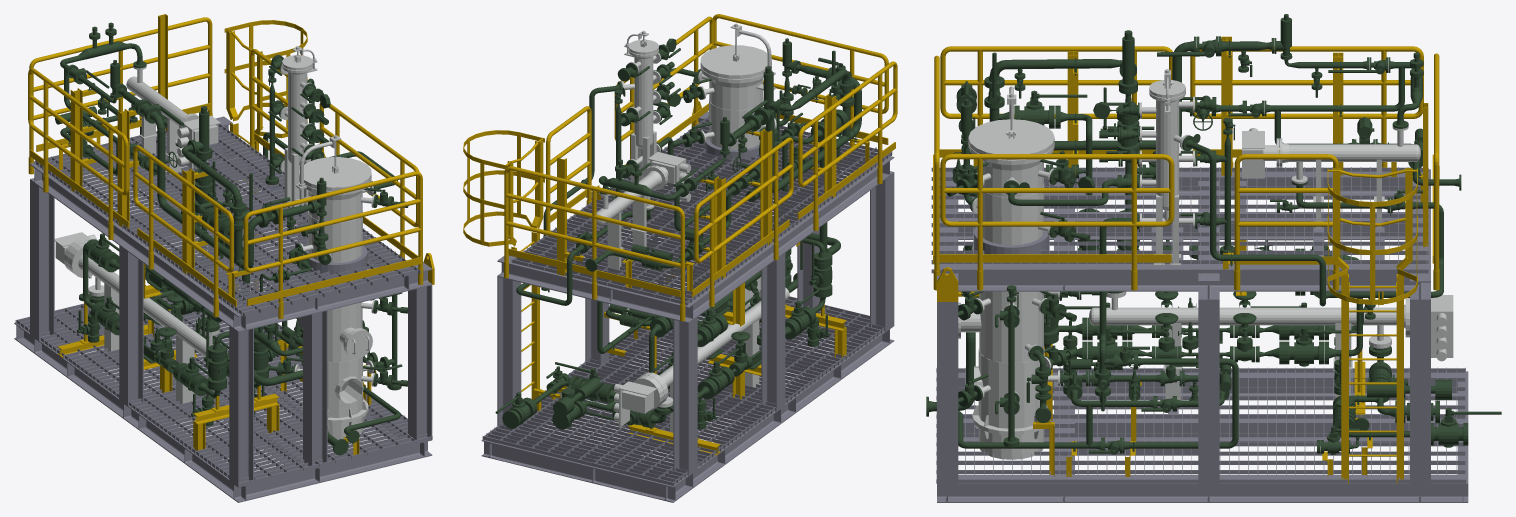
The picture shows the model from 3 angles, left to right: view 1: azimuth 30°, elevation 25°; view 2: azimuth 150°, elevation 25°; view 3: azimuth 270°, elevation 25°; orthographic projection. The views are drawn at different scales.
Parts seen in each view (by area): view 1: Stru Col.001, Hand rail, PIPE 1, PIPE 2, Grating Upper.001, Grating lower.001, EQUI 1, Stru basebeam.002, Supp, EQUI 2, Grating Upper.002, Grating lower.002 (+3 smaller); view 2: Stru Col.001, Hand rail, PIPE 1, Grating lower.001, PIPE 2, Grating Upper.001, Stru basebeam.002, Supp, EQUI 1, EQUI 2, Grating lower.002, EQUI 4 (+3 smaller); view 3: PIPE 1, Stru Col.001, Hand rail, Stru basebeam.002, PIPE 2, Grating lower.002, EQUI 1, Grating Upper.002, EQUI 2, Supp, Grating lower.001, EQUI 3 (+3 smaller).
Part boxes in pixels (<box>): Stru Col.001: <box>30,116,432,486</box>; Hand rail: <box>28,17,434,318</box>; PIPE 1: <box>77,106,408,443</box>; PIPE 2: <box>55,22,401,455</box>; Grating Upper.001: <box>34,123,418,315</box>; Grating lower.001: <box>15,292,432,486</box>; EQUI 1: <box>294,135,375,439</box>; Stru basebeam.002: <box>14,292,432,502</box>; Supp: <box>57,14,376,455</box>; EQUI 2: <box>54,232,219,404</box>; Grating Upper.002: <box>35,124,420,316</box>; Grating lower.002: <box>17,304,431,486</box>; Stru Col.001: <box>497,111,894,475</box>; Hand rail: <box>463,14,897,399</box>; PIPE 1: <box>495,38,846,429</box>; Grating lower.001: <box>482,296,883,485</box>; PIPE 2: <box>516,38,861,305</box>; Grating Upper.001: <box>511,115,891,305</box>; Stru basebeam.002: <box>481,293,894,502</box>; Supp: <box>533,94,869,455</box>; EQUI 1: <box>698,23,776,312</box>; EQUI 2: <box>614,287,789,432</box>; Grating lower.002: <box>484,299,884,484</box>; EQUI 4: <box>596,152,691,269</box>; PIPE 1: <box>946,30,1501,454</box>; Stru Col.001: <box>937,169,1430,483</box>; Hand rail: <box>933,46,1439,483</box>; Stru basebeam.002: <box>937,371,1468,502</box>; PIPE 2: <box>926,14,1461,447</box>; Grating lower.002: <box>936,368,1465,483</box>; EQUI 1: <box>958,86,1059,459</box>; Grating Upper.002: <box>931,167,1428,273</box>; EQUI 2: <box>1089,291,1453,400</box>; Supp: <box>958,36,1428,476</box>; Grating lower.001: <box>936,367,1465,483</box>; EQUI 3: <box>1140,69,1194,265</box>.
Size of the model in its own units: 328 by 427 by 542.
